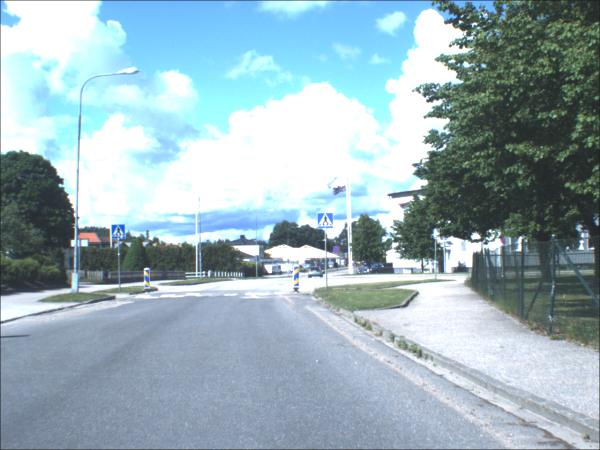NO_PARKING: (335, 247, 343, 255)
PEDESTRIAN_CROSSING: (319, 213, 335, 231), (113, 225, 127, 241), (435, 230, 442, 240)
